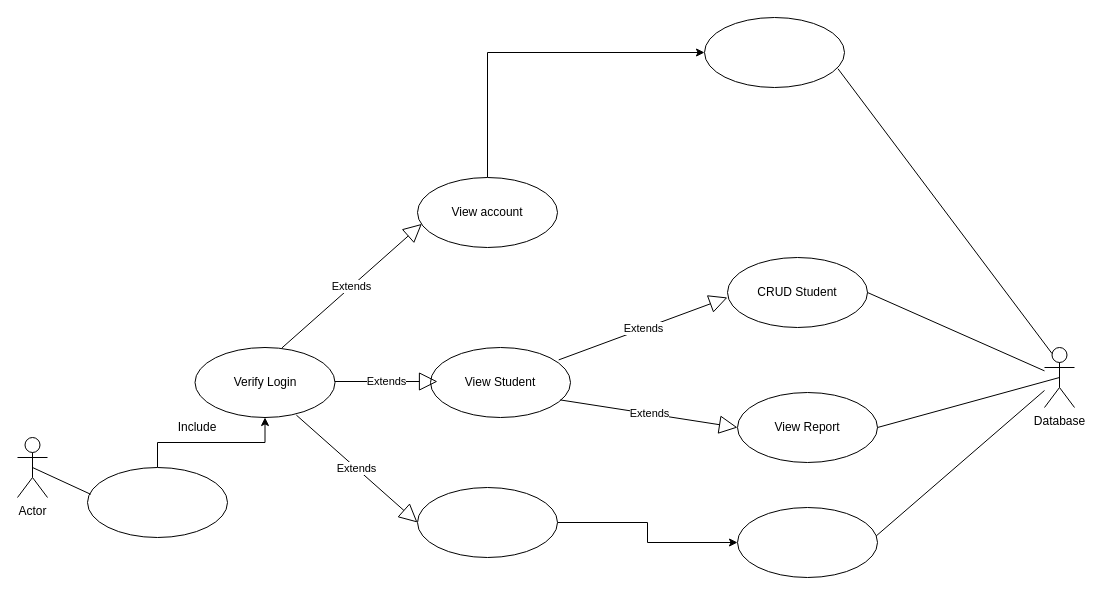
Some shapes in this 1102 by 595 pixel diagram are drawn without their labels. Each missing label, with the box of its shape:
CRUD account: (704, 16, 844, 88)
CRUD Class: (736, 506, 878, 578)
Login: (86, 466, 228, 538)
View Class: (416, 486, 558, 558)
